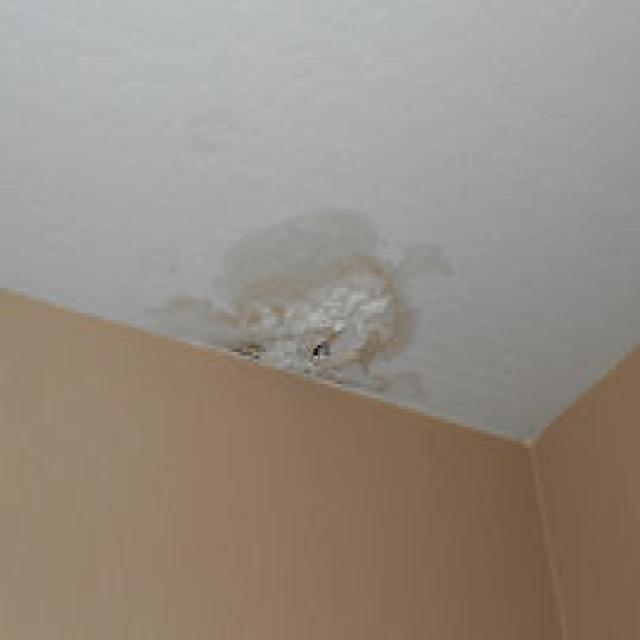damp_damage: (146, 137, 482, 443)
whole_cause_by_damp: (290, 308, 349, 386)
